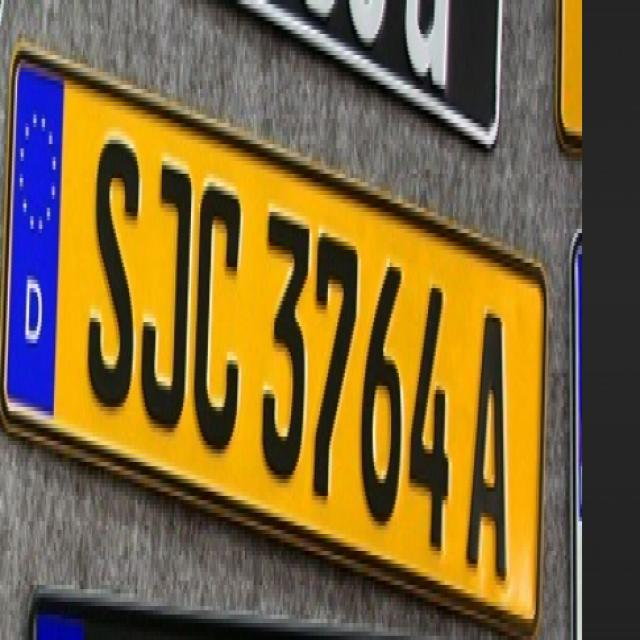3: (252, 182, 317, 513)
4: (407, 259, 465, 581)
6: (348, 226, 416, 542)
7: (306, 198, 367, 520)
A: (458, 282, 519, 615)
C: (191, 150, 252, 478)
J: (135, 138, 200, 455)
S: (81, 107, 150, 441)
